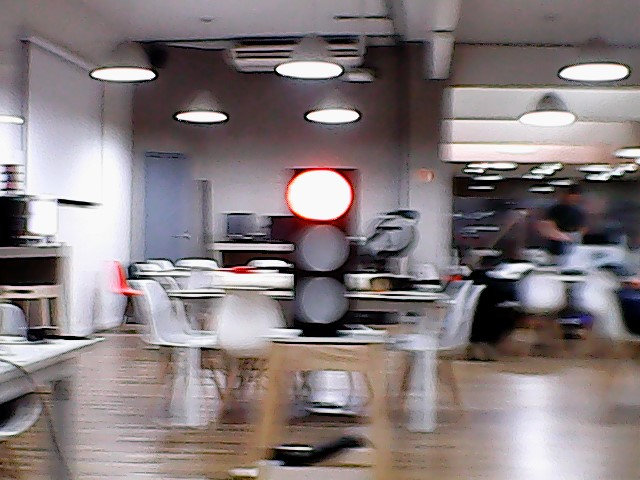vermelho: (291, 169, 363, 331)
